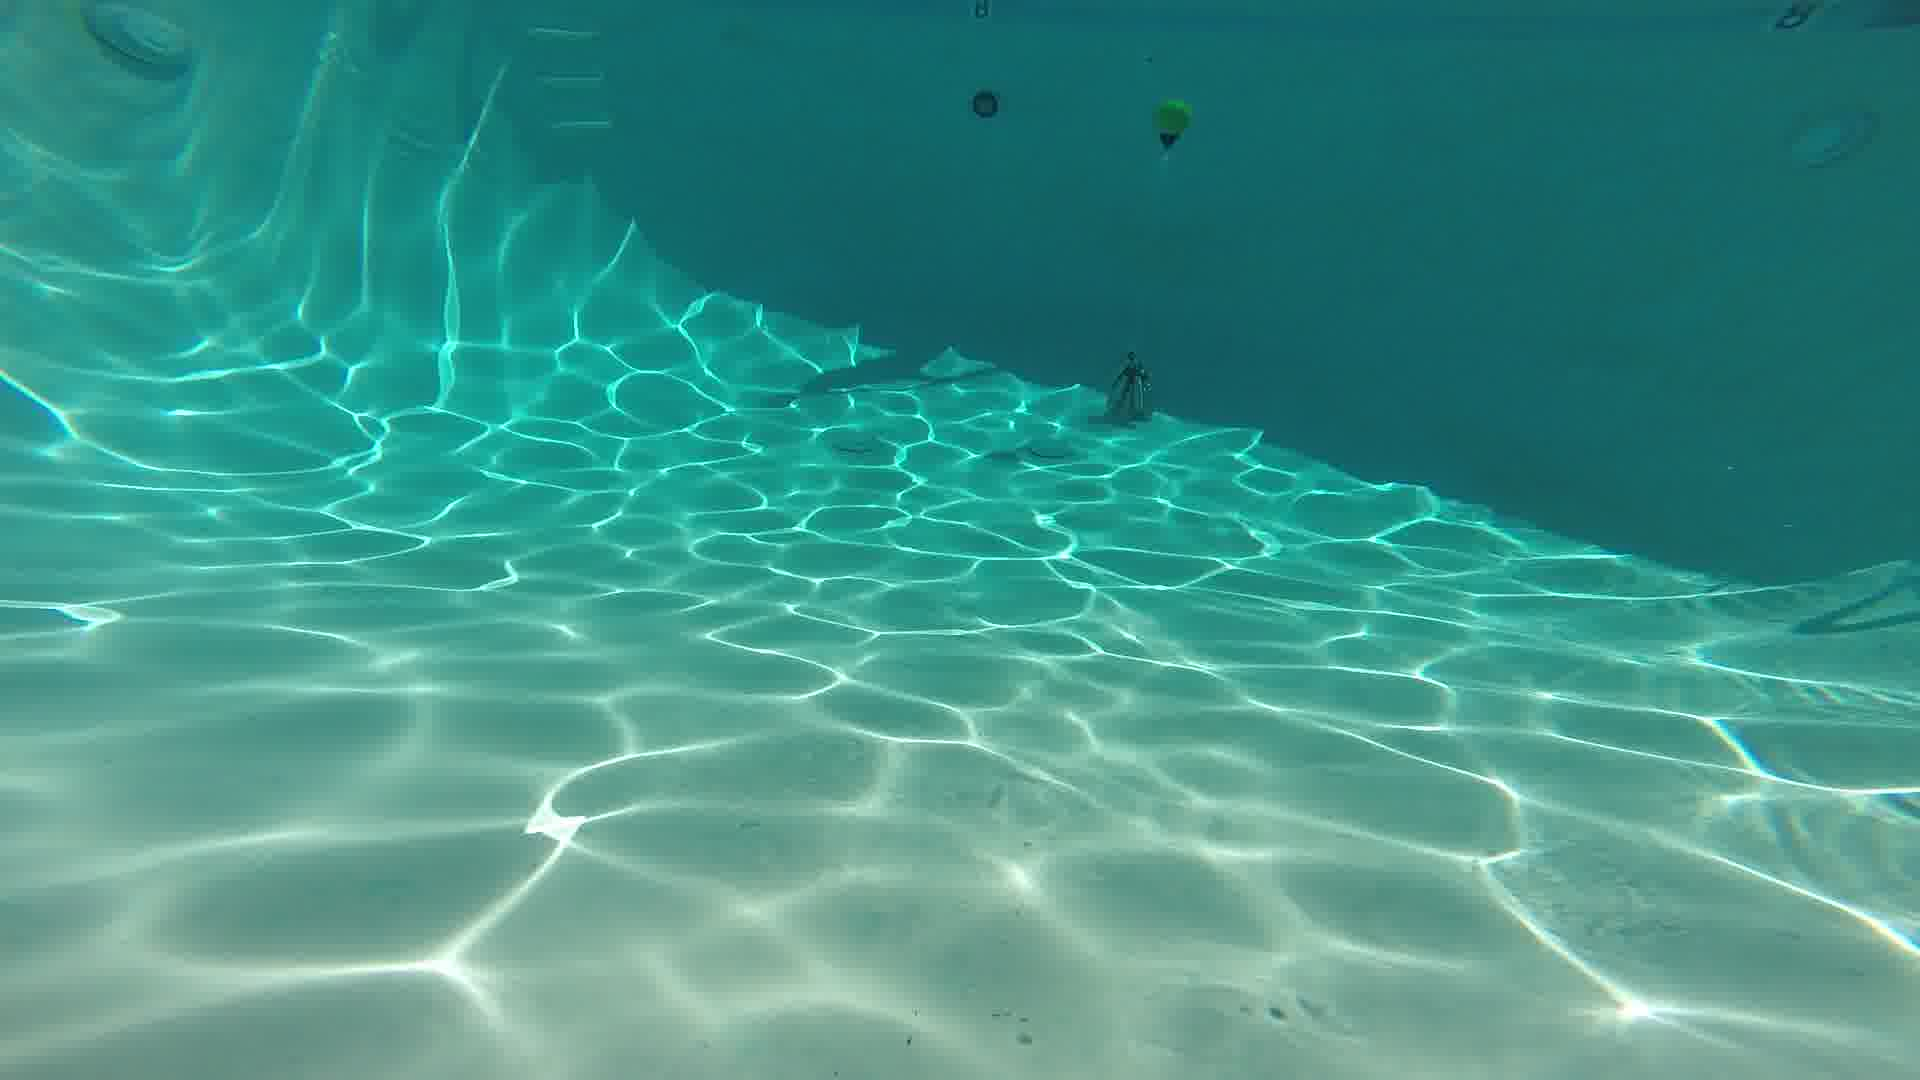yellow buoy: (1149, 92, 1193, 160)
